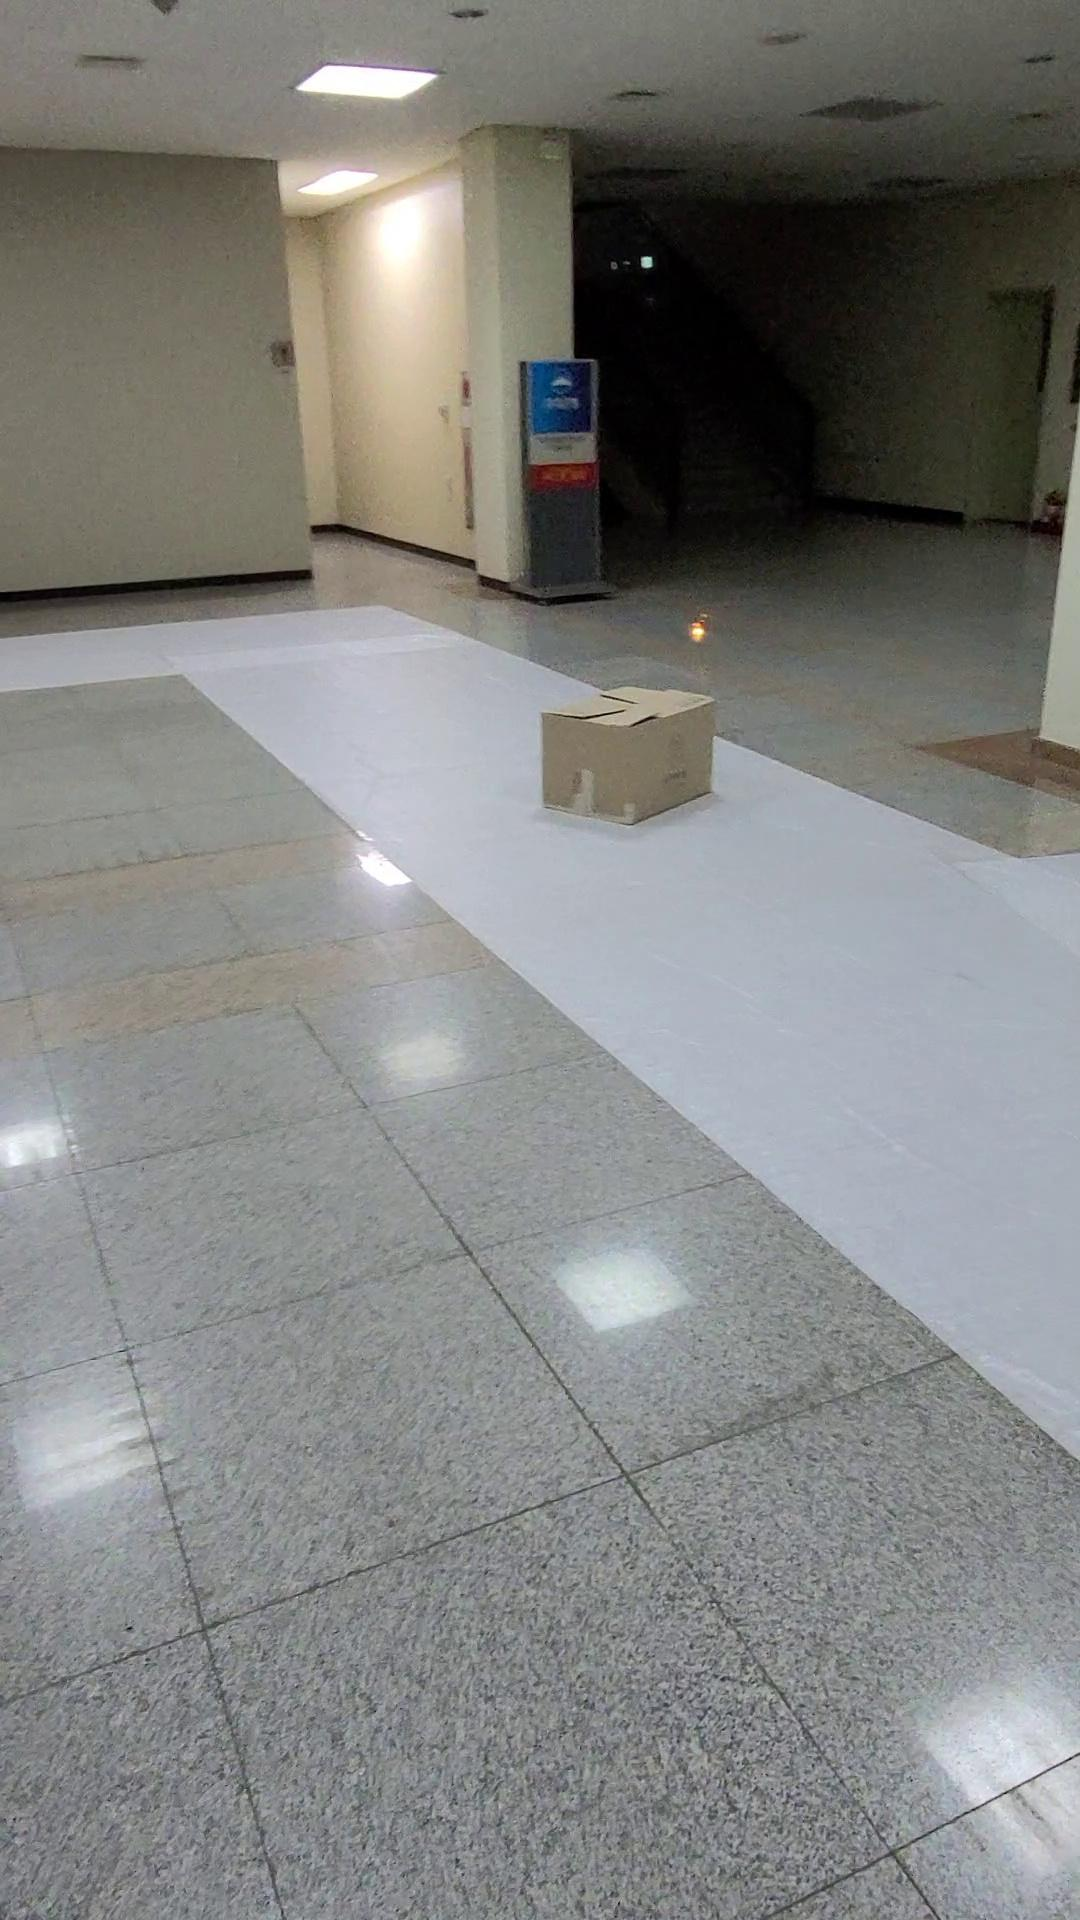Box: (527, 684, 732, 837)
